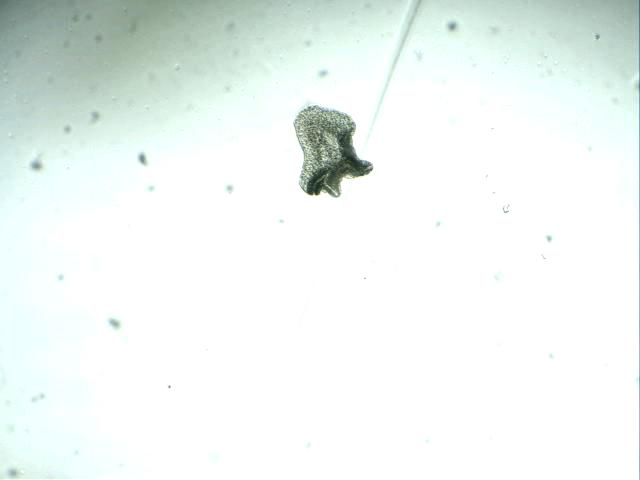Placozoan: (293, 103, 374, 199)
